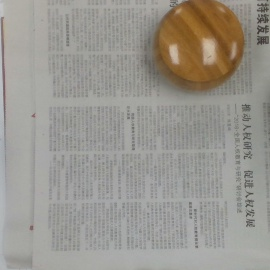chess: (156, 1, 245, 91)
